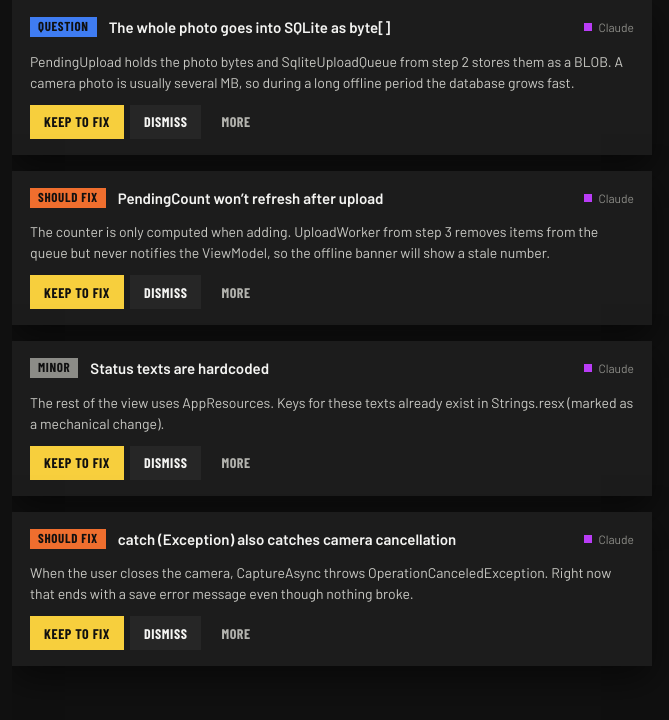
Test: S-03 note card: the fix card (F-25.3) › F-25.3 Fix with Claude starts the fix of that note and shows the busy line with Cancel
This screenshot has width=669, height=720.
Step 1. Click the button "More" below "PendingCount won’t refresh after upload" → click(236, 292), box [208,275,265,309]
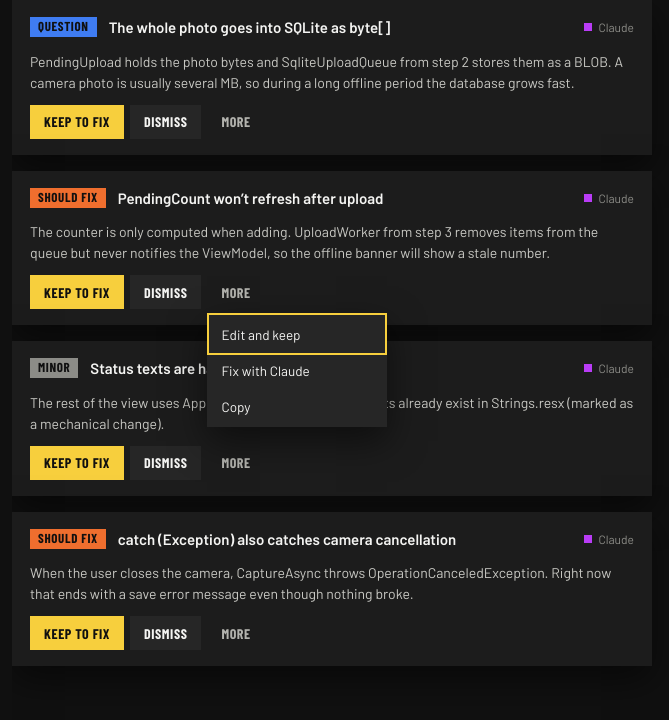
Step 2. Click the menu item "Fix with Claude" → click(298, 370), box [212,353,384,387]
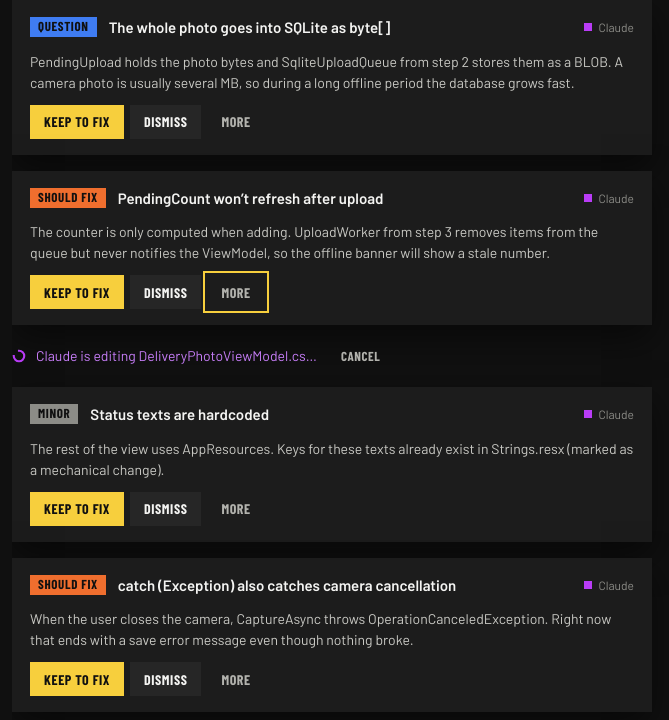
Check: the button "Cancel" is enabled, box [329,341,392,371]
Check: the menu is gone
